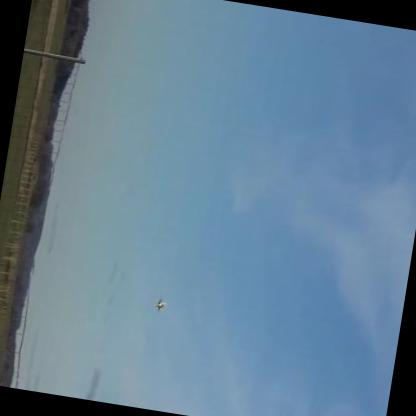plane: (152, 297, 166, 313)
